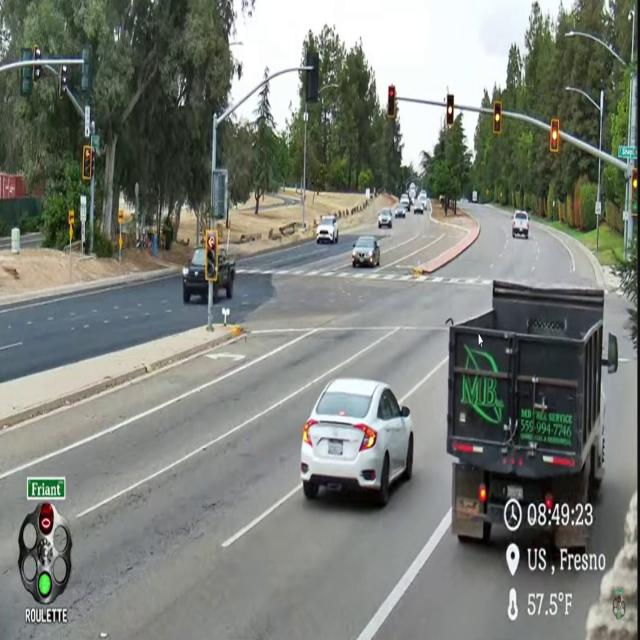car: (301, 378, 413, 505), (213, 248, 235, 302), (352, 237, 379, 267), (316, 216, 338, 243), (512, 211, 529, 239), (377, 209, 393, 228), (413, 198, 425, 214), (394, 205, 406, 218), (400, 193, 410, 207), (419, 190, 426, 201)
traffic signal: (306, 51, 319, 103), (205, 230, 218, 281), (81, 45, 91, 95), (82, 145, 93, 181), (20, 66, 32, 96), (550, 119, 560, 152), (493, 101, 502, 135), (387, 86, 396, 119), (631, 168, 637, 216), (59, 64, 67, 99), (446, 94, 454, 126), (33, 64, 41, 82)
truck: (447, 281, 617, 549), (472, 191, 477, 203)
